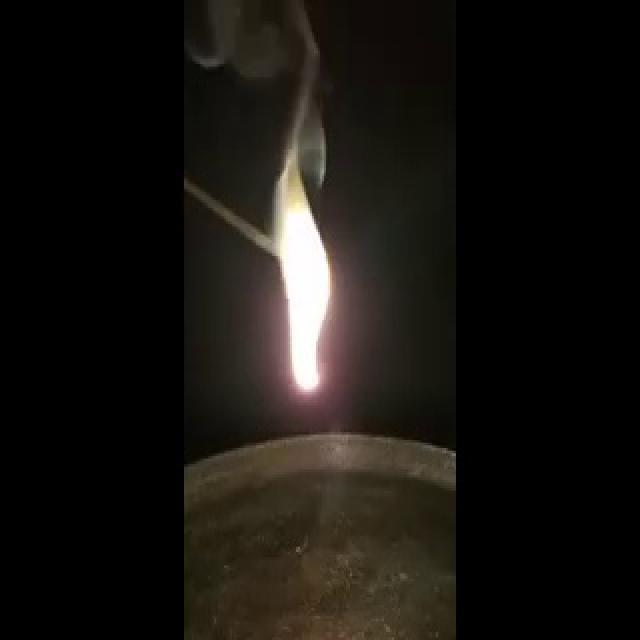fire: (261, 116, 343, 391)
